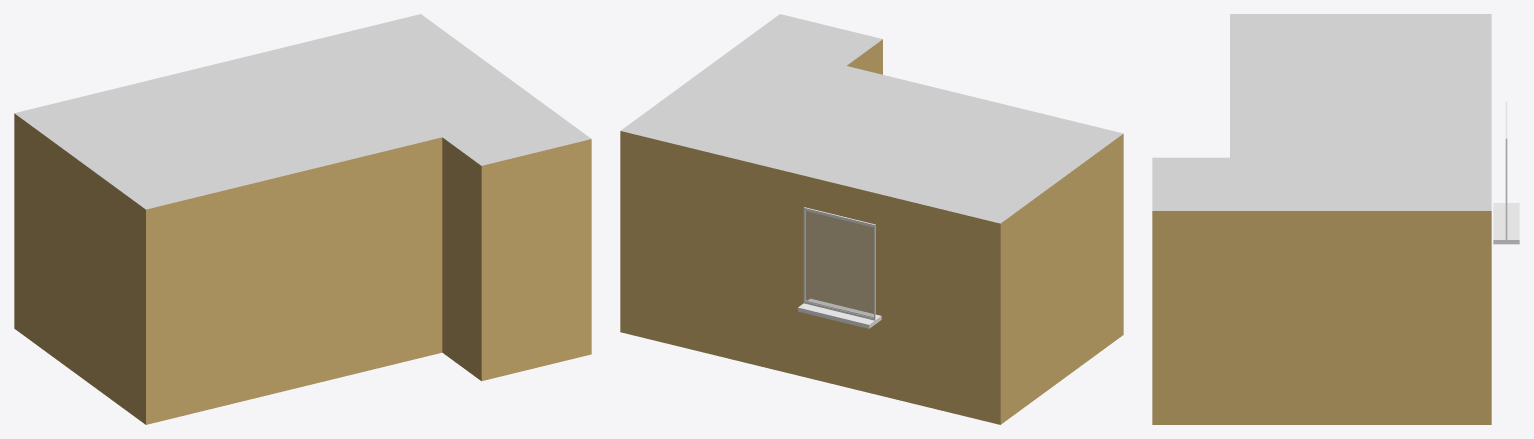
The model's file is Bathroom.glb.
3 renders of one model, left to right at view 1: azimuth 30°, elevation 25°; view 2: azimuth 150°, elevation 25°; view 3: azimuth 270°, elevation 25°, orthographic. The views are drawn at different scales.
Visible parts, largest first — view 1: Room_Bathroom; view 2: Room_Bathroom, Bathroom_Window_N; view 3: Room_Bathroom, Bathroom_Window_N.
Part boxes in pixels (bbox=[...]): Room_Bathroom: bbox=[14, 14, 591, 424]; Room_Bathroom: bbox=[620, 14, 1123, 424]; Bathroom_Window_N: bbox=[798, 207, 881, 328]; Room_Bathroom: bbox=[1152, 14, 1491, 424]; Bathroom_Window_N: bbox=[1493, 101, 1519, 244].
Size of the model in its own units: 4.83 by 2.45 by 3.81.
